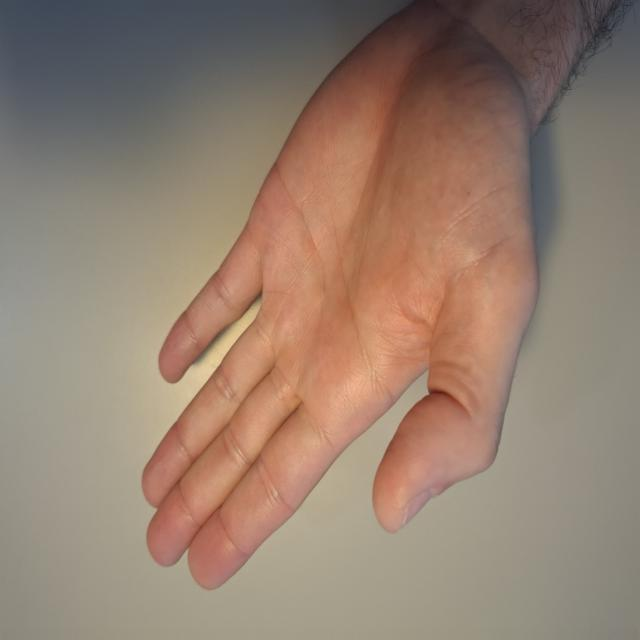glove_off: (139, 0, 542, 595)
